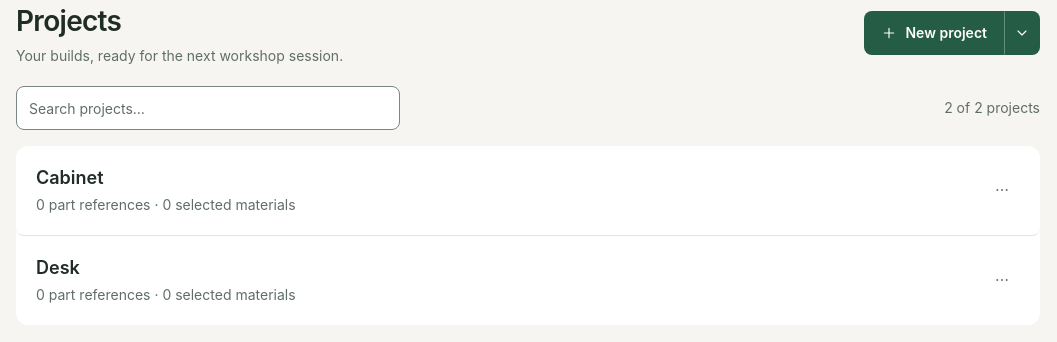
Project manager › filters the main list and provides a clear searchable empty state
The width and height of the screenshot is (1057, 342).
Type "DESK" into the search field with placeholder "Search projects…" at (208, 108), box [16, 86, 400, 130]
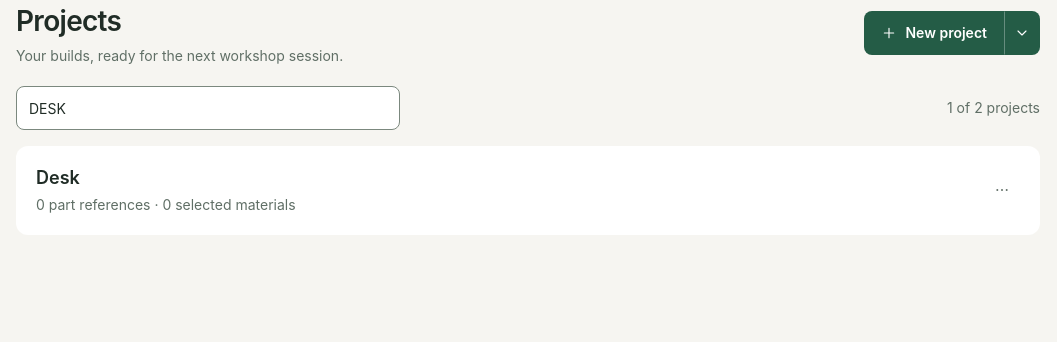
Check: the link to "/projects/desk/materials" is shown, box [36, 167, 296, 213]
Check: the number of list items is 1, box [36, 167, 1020, 213]
Replace the text in the search field with "absent" at (208, 108), box [16, 86, 400, 130]
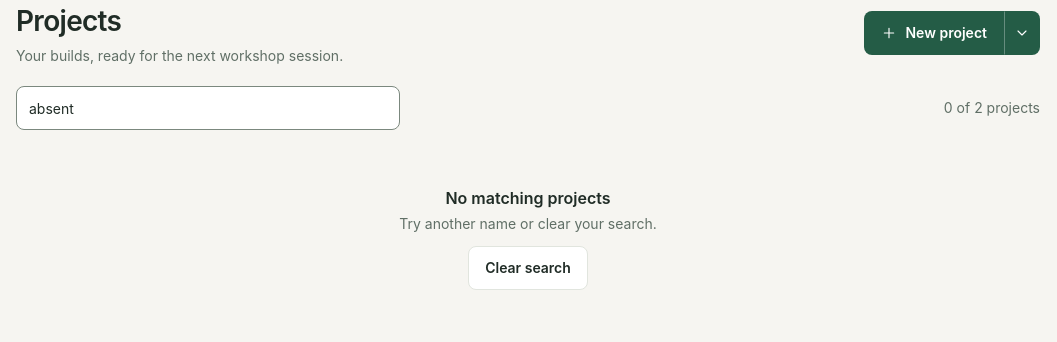
Check: the text "No matching projects" is shown, box [445, 188, 610, 208]
Click the button "Clear search" at (528, 268), box [468, 246, 588, 290]
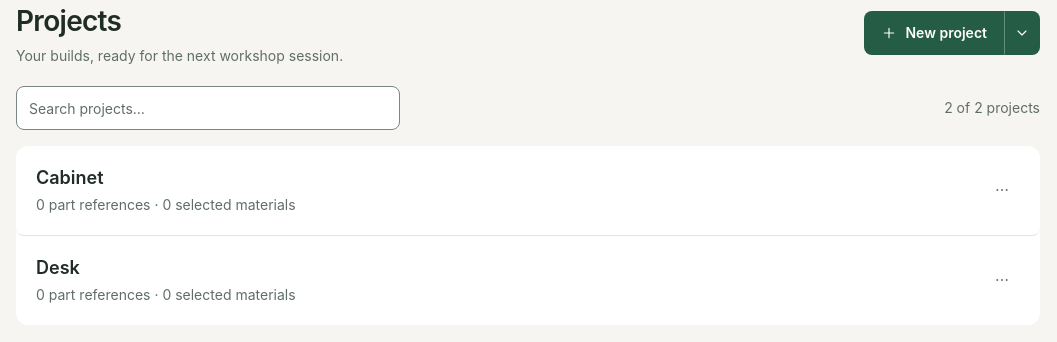
Check: the number of list items is 2, box [16, 146, 1040, 236]; [36, 257, 1020, 303]
